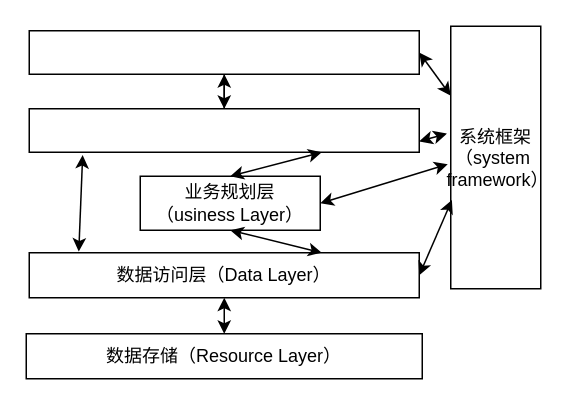
Some shapes in this 575 by 405 pixel diagram are drawn without their labels. Here are the shapes that lost their labels. From the top down, the centre of each, then its label:
pixel 223 51: 用户界面层（UserUI Layer）
pixel 223 129: 协同预案层（Cooperate Layer）
